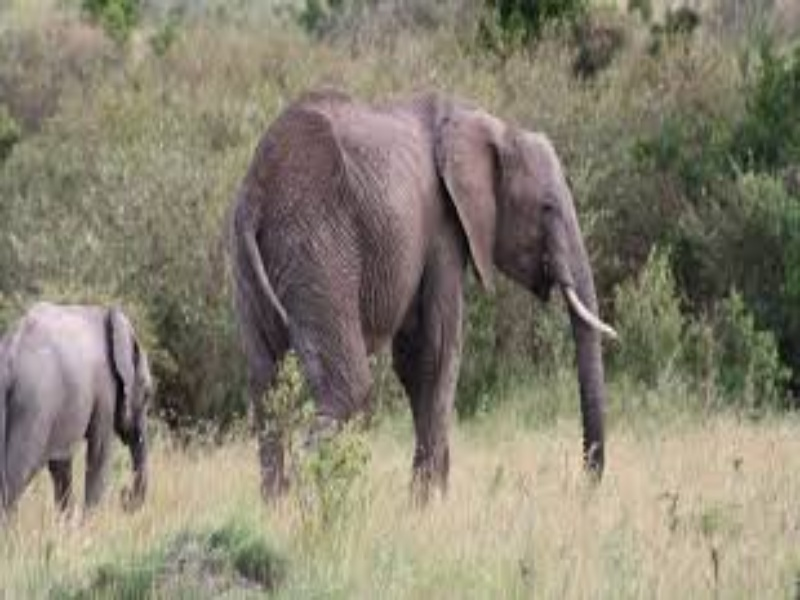elephant: (240, 68, 622, 537), (1, 283, 171, 525)
